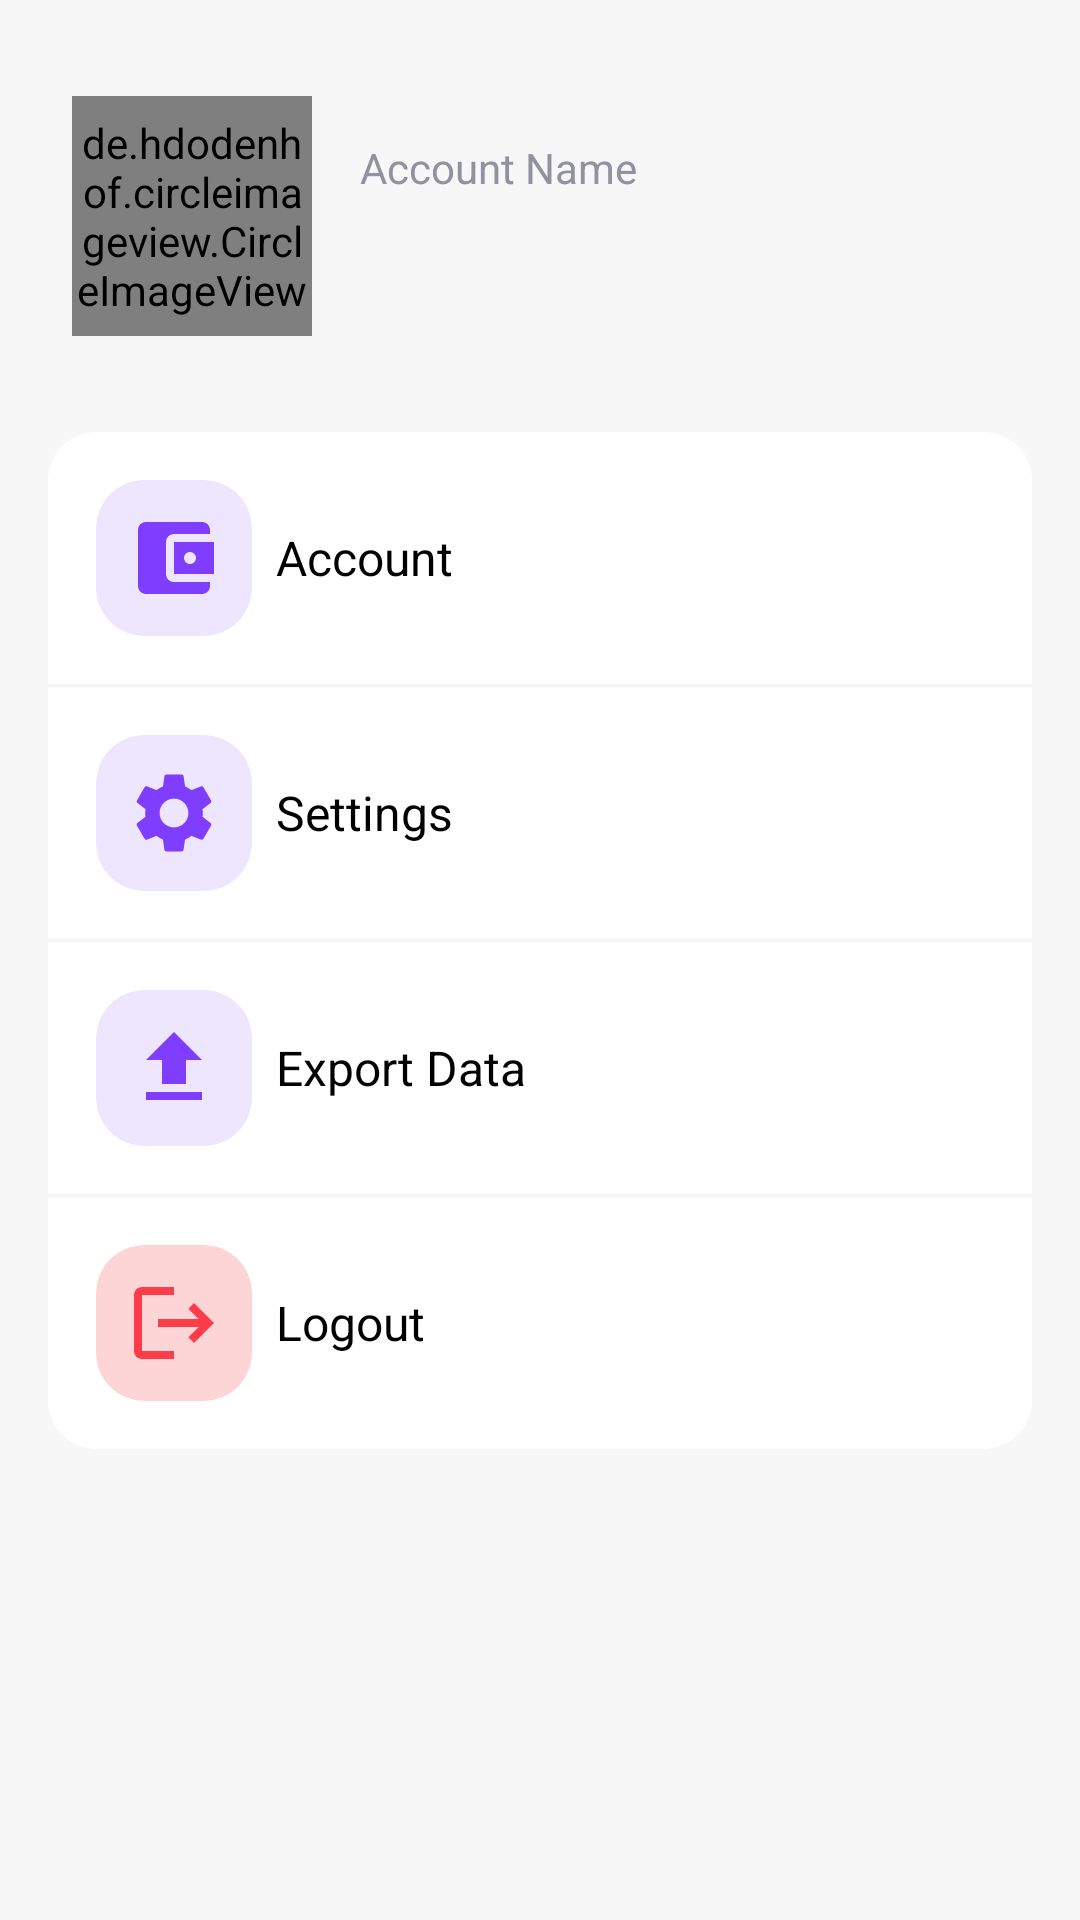

Named icons in this screenshot (1080×1920) and their bounding boxes, (x1, y1, x2, y2):
upload: (146, 1032, 202, 1100)
